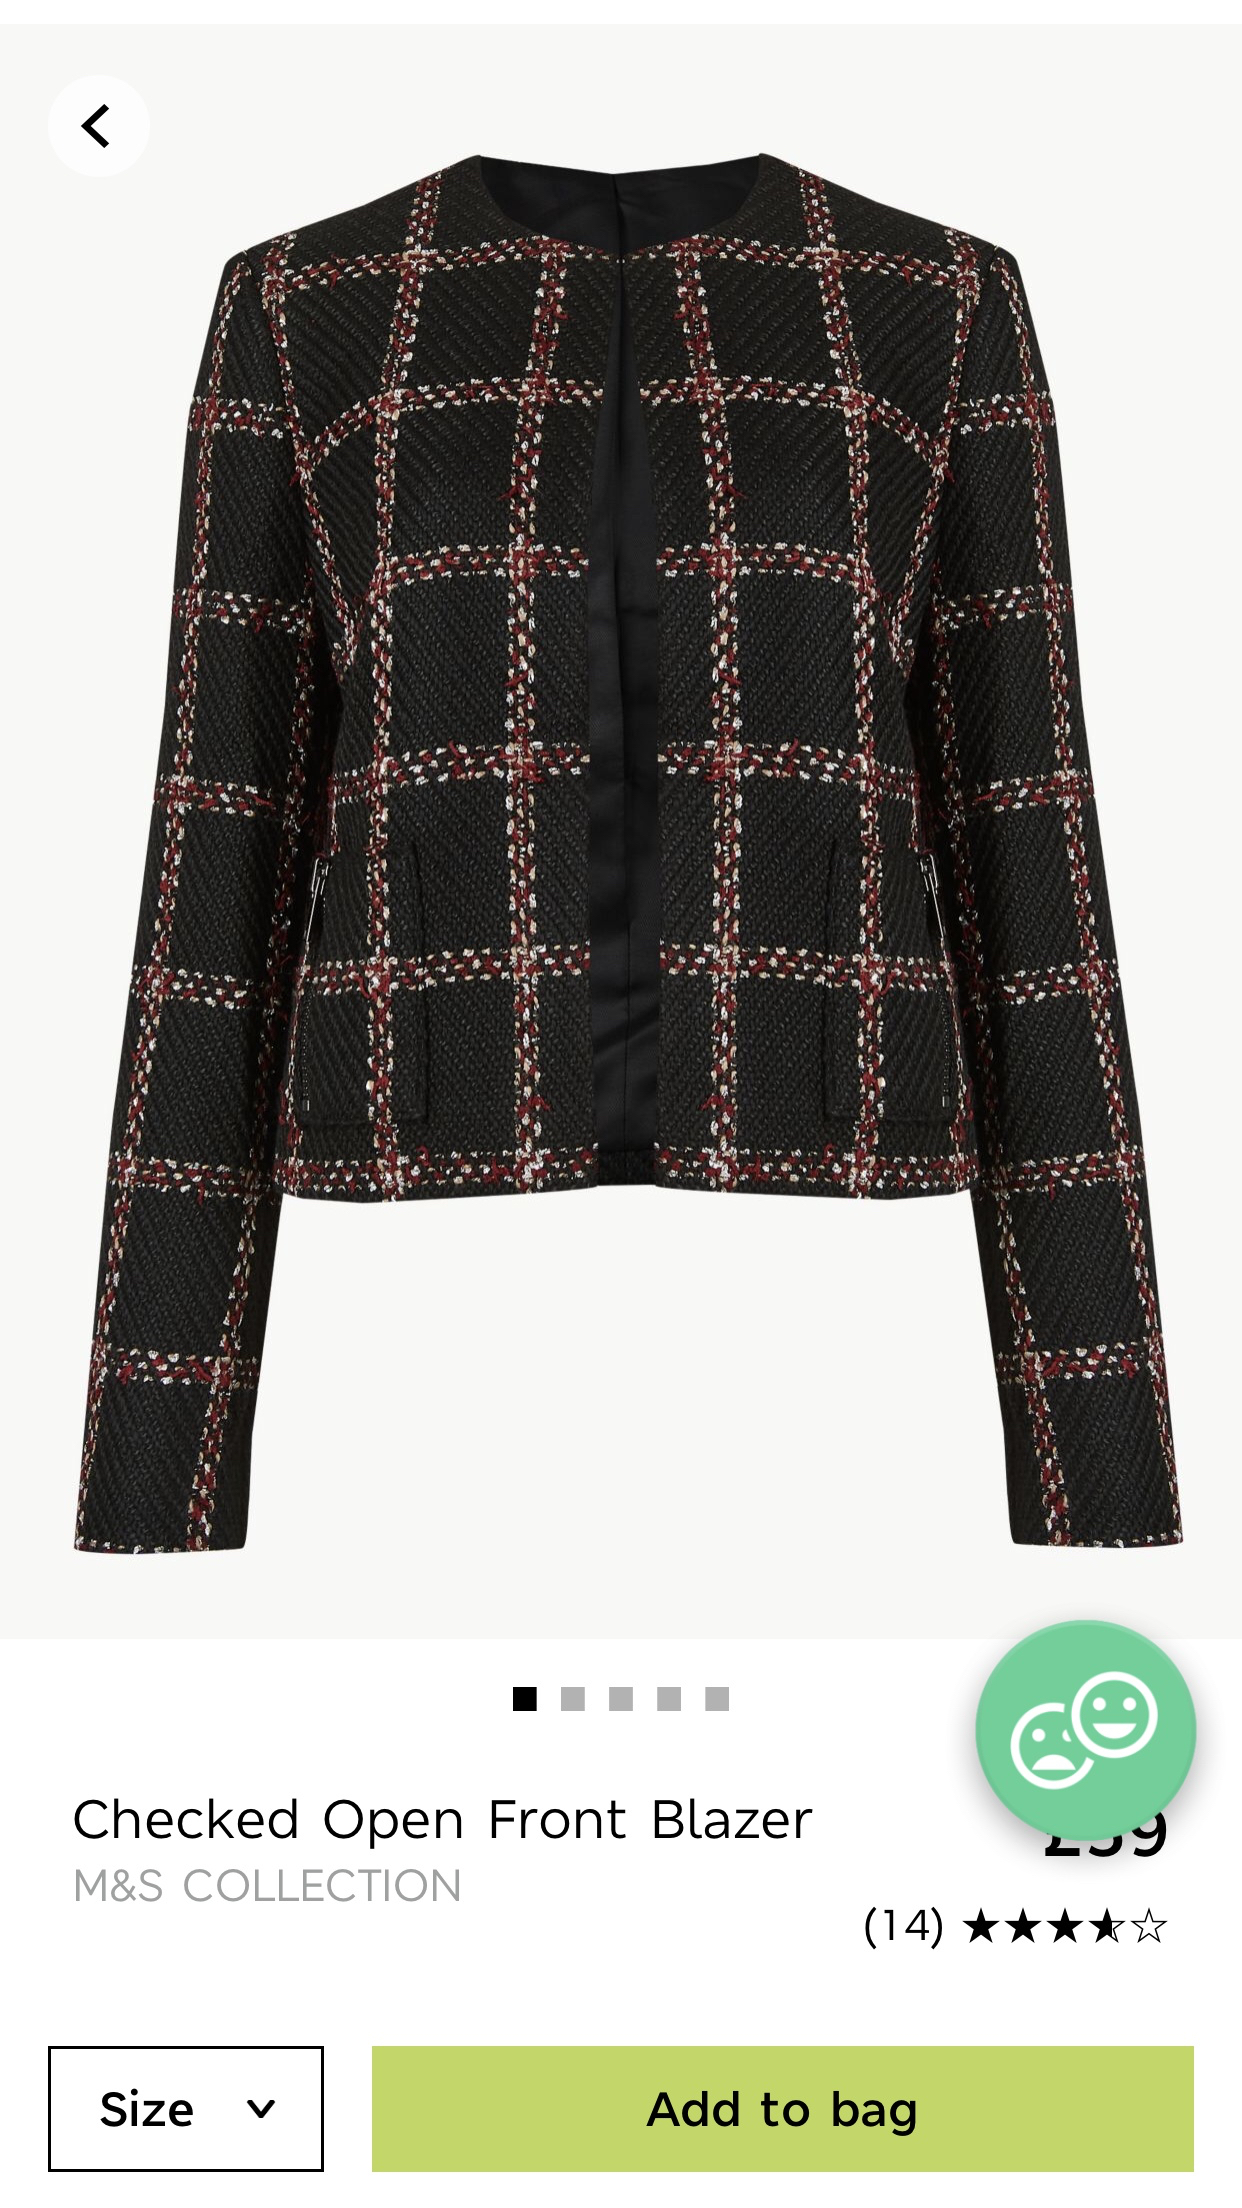Icon: (49, 74, 152, 177), (961, 1908, 1169, 1944), (247, 2099, 276, 2119)
Image: (71, 152, 1186, 1556), (975, 1620, 1197, 1841)
PageIndicator: (513, 1686, 731, 1714)
Text: (74, 1799, 814, 1850), (76, 1868, 461, 1903), (100, 2088, 194, 2128), (864, 1906, 943, 1950)
TextButton: (372, 2046, 1193, 2172), (49, 2046, 325, 2173)
